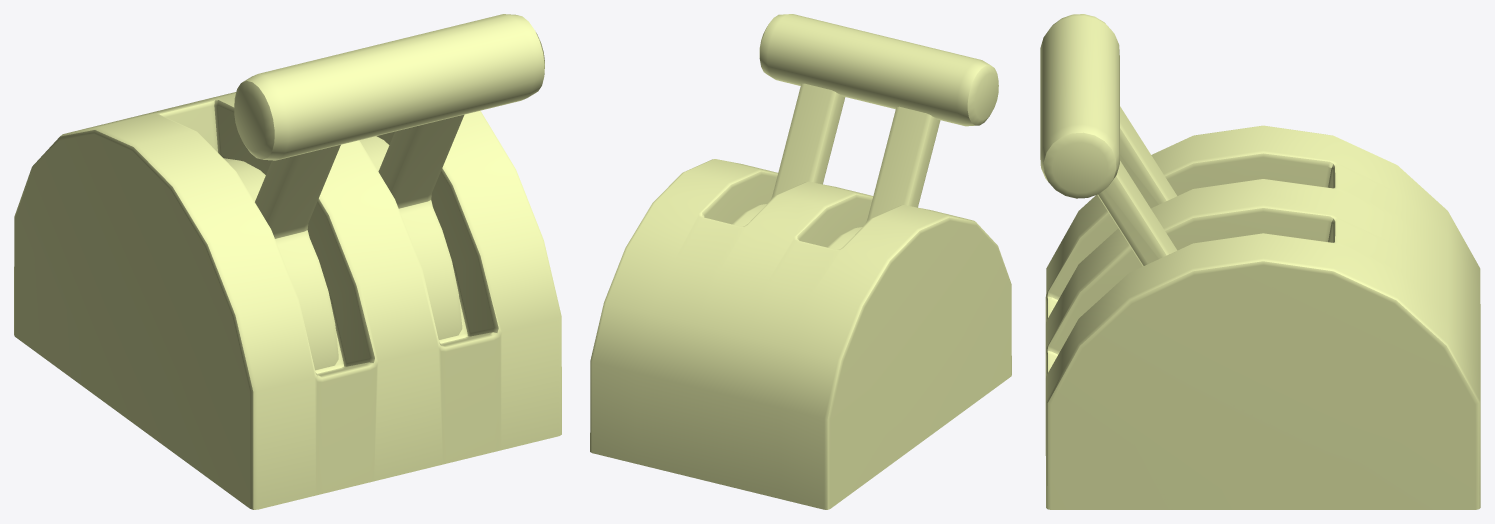
Rendered from Lever.fbx.
3 renders of one model, left to right at view 1: azimuth 30°, elevation 25°; view 2: azimuth 150°, elevation 25°; view 3: azimuth 270°, elevation 25°, orthographic. The views are drawn at different scales.
Parts seen in each view (by area): view 1: lever_base, lever_handle, lever; view 2: lever_base, lever_handle, lever; view 3: lever_base, lever_handle, lever.
Boxes of the visible parts, x1,y1,x2,y2 form: lever_base: (14,92,561,509); lever_handle: (234,14,544,160); lever: (224,115,464,370); lever_base: (590,159,1011,509); lever_handle: (759,14,998,126); lever: (732,83,940,249); lever_base: (1045,125,1480,509); lever_handle: (1040,14,1119,198); lever: (1097,106,1177,266).
Size of the model in its own units: 0.2835 by 0.3821 by 0.3852.
